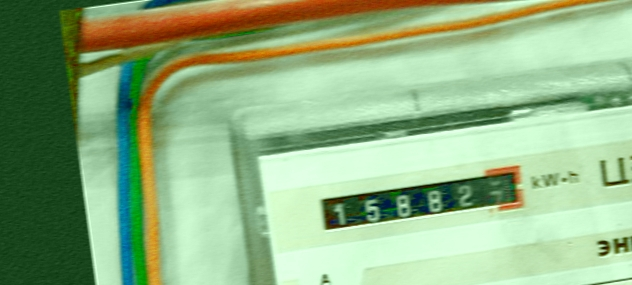1: (331, 204, 348, 231)
2: (456, 184, 475, 212)
5: (362, 200, 381, 227)
7: (488, 190, 504, 208)
8: (393, 196, 413, 222), (424, 190, 443, 216)
screen: (305, 159, 537, 249)
